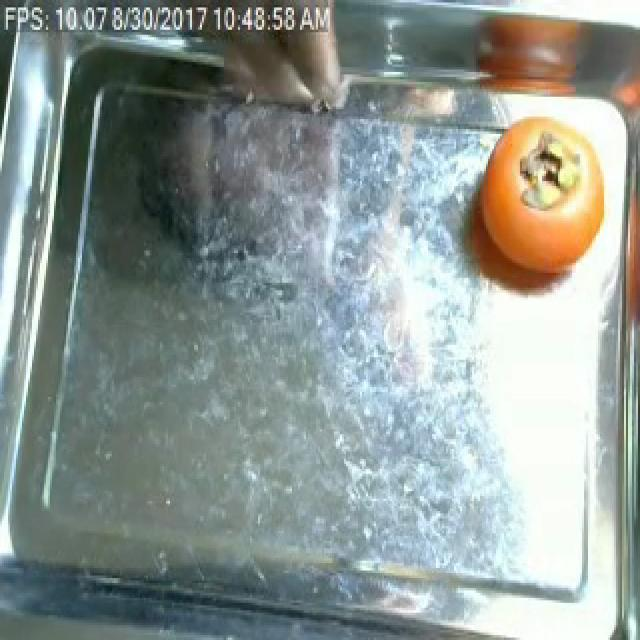Fruit: (470, 109, 612, 300), (466, 18, 596, 104)
